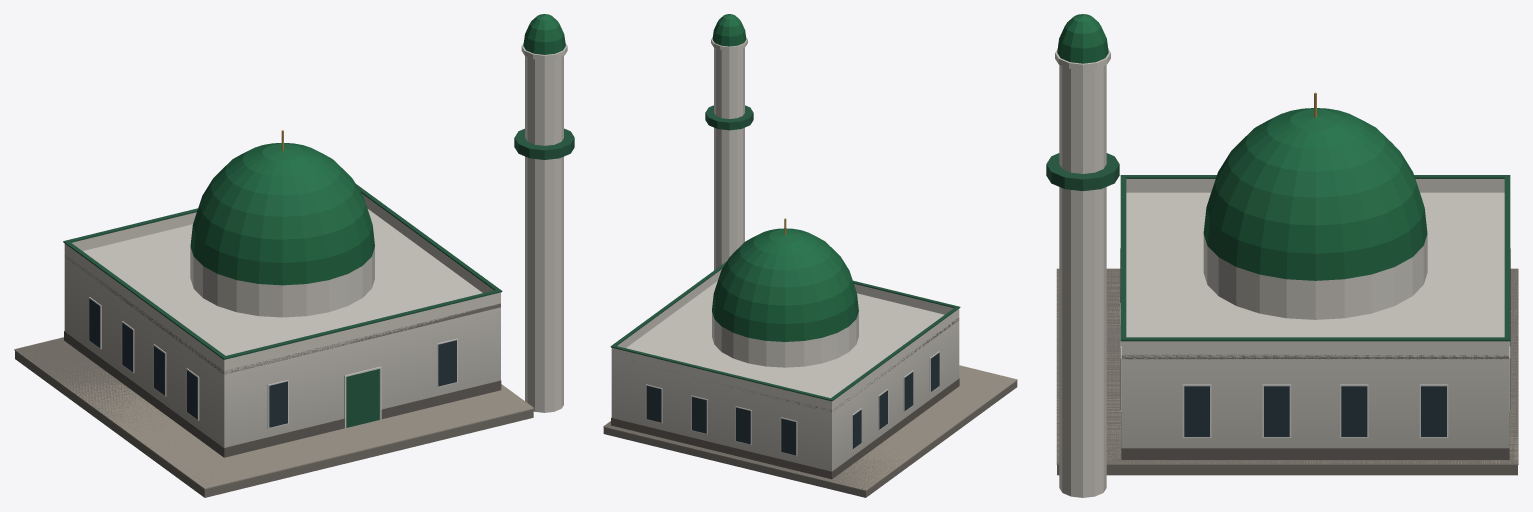
The model's file is ns_mosque_lod1.glb.
The picture shows the model from 3 angles, left to right: view 1: azimuth 30°, elevation 25°; view 2: azimuth 150°, elevation 25°; view 3: azimuth 270°, elevation 25°; orthographic projection. The views are drawn at different scales.
Visible parts, largest first — view 1: ns_mosque_lod1; view 2: ns_mosque_lod1; view 3: ns_mosque_lod1.
Part boxes in pixels (x1,y1,x2,y2): ns_mosque_lod1: [14, 14, 574, 497]; ns_mosque_lod1: [603, 14, 1017, 497]; ns_mosque_lod1: [1046, 14, 1518, 497].
Size of the model in its own units: 24.53 by 24.22 by 21.93.
